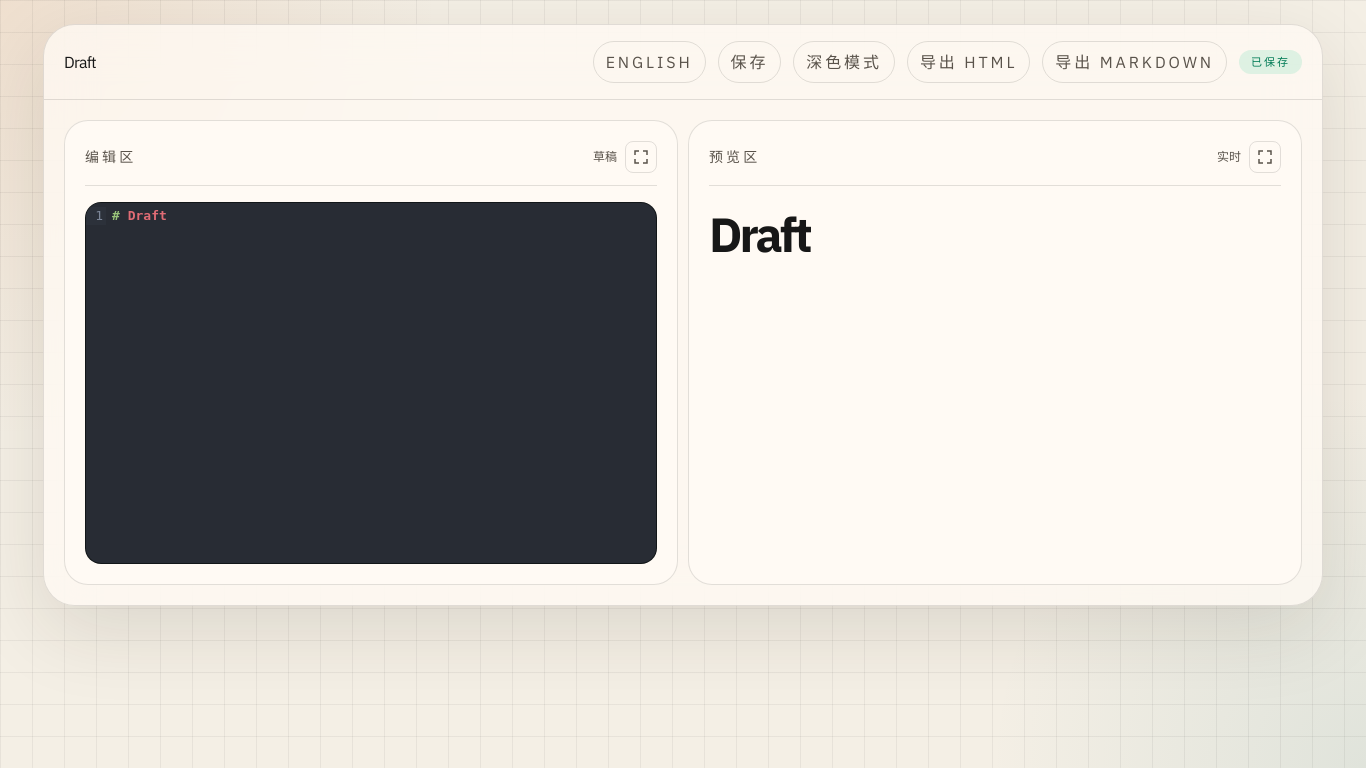
Test case: responsive editor layout › supports preview fullscreen mode
The image size is (1366, 768).
Click the button named "预览区全屏". click: [1265, 157]
box: x1=1249 y1=141 x2=1281 y2=173
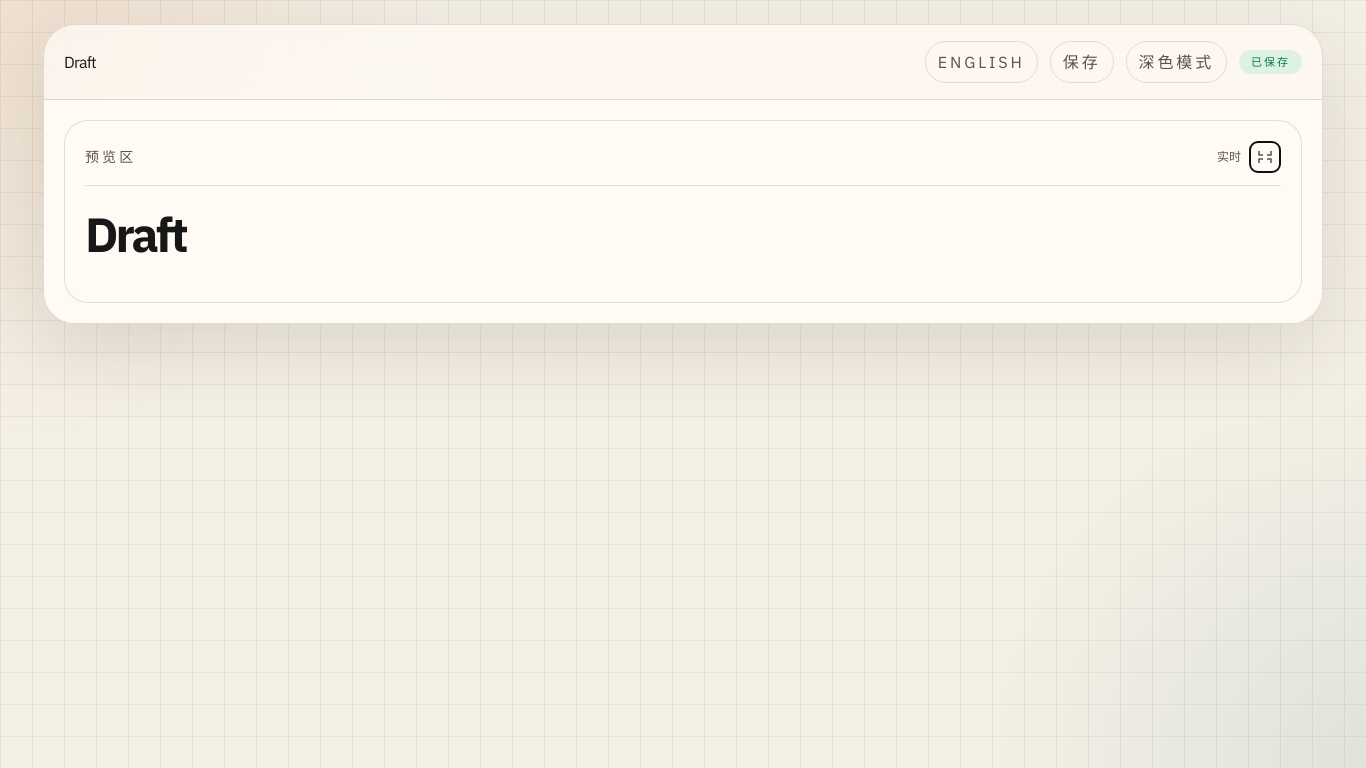
Check: the heading "编辑区" is gone
Check: the button named "退出全屏" is shown, box x1=1249 y1=141 x2=1281 y2=173
